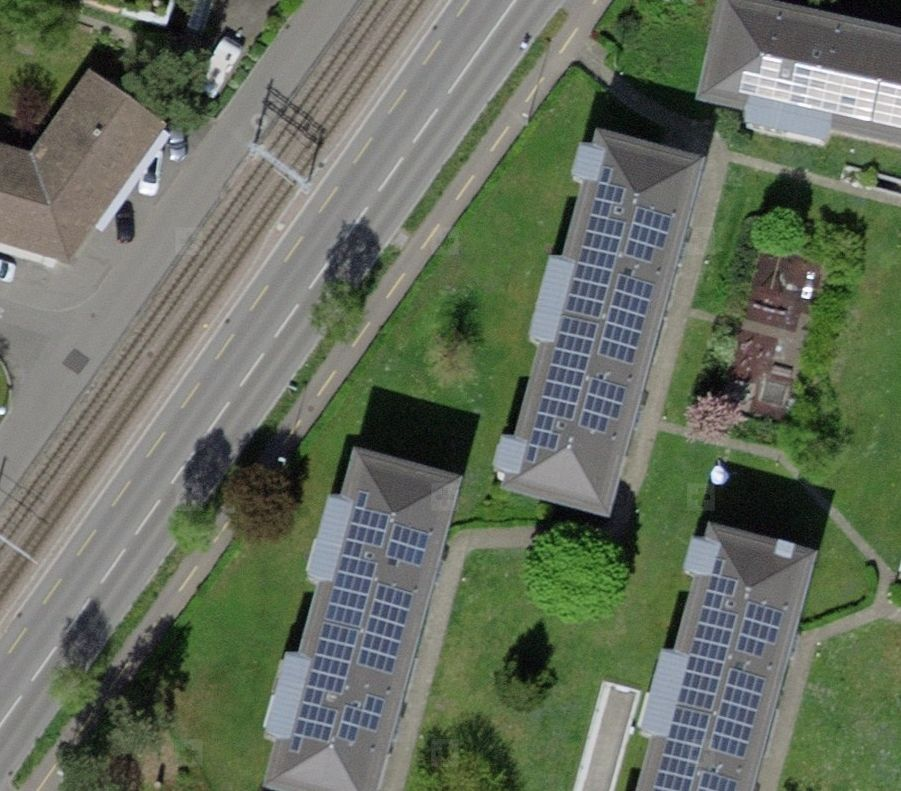solar: (524, 161, 671, 465), (290, 491, 428, 756), (651, 558, 784, 791), (736, 55, 901, 129)
